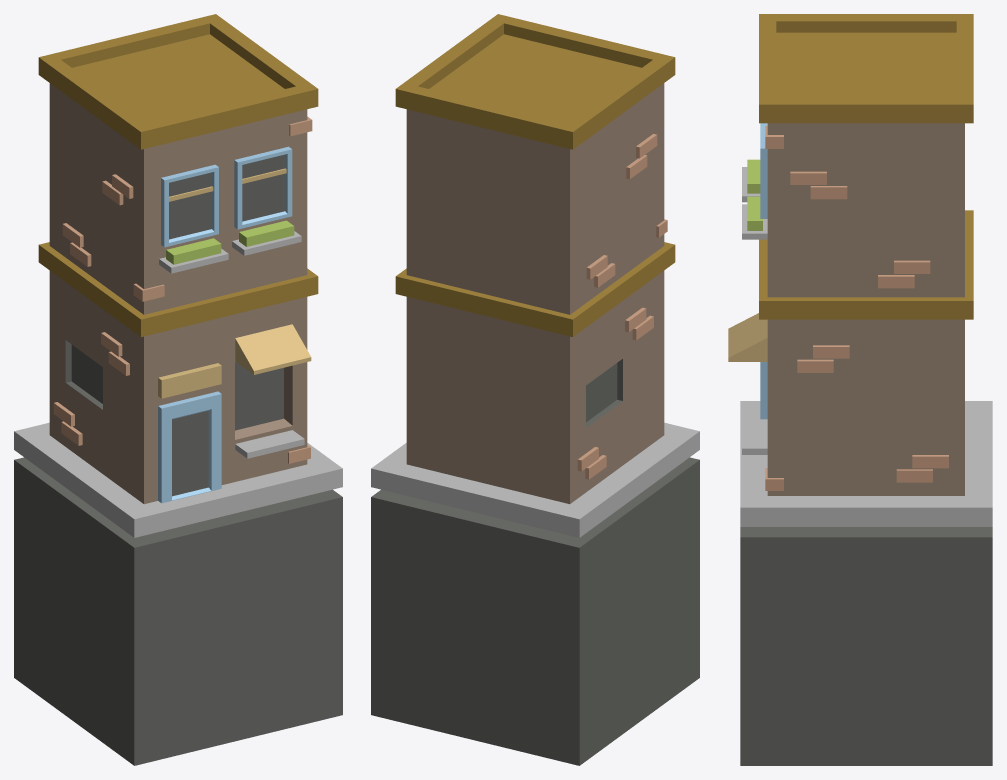
Rendered from house_Block_color2F_b.fbx.
3 views of the same model, side by side, from view 1: azimuth 30°, elevation 25°; view 2: azimuth 150°, elevation 25°; view 3: azimuth 270°, elevation 25° (orthographic). The views are drawn at different scales.
Visible parts, largest first — view 1: floor_base, polySurface6, polySurface34, house3, house, house2, polySurface4, polySurface44, polySurface35, polySurface8, polySurface5, polySurface9 (+4 smaller); view 2: floor_base, polySurface6, polySurface34, house3, house, house2; view 3: floor_base, polySurface6, polySurface34, house3, house, house2, polySurface8, polySurface9, polySurface44, polySurface51, polySurface50, polySurface53 (+8 smaller).
Part boxes in pixels (x1,y1,x2,y2): floor_base: (14, 457, 342, 765); polySurface6: (49, 271, 307, 504); polySurface34: (49, 83, 307, 314); house3: (38, 14, 318, 149); house: (14, 422, 342, 537); house2: (38, 242, 318, 336); polySurface4: (158, 391, 221, 503); polySurface44: (234, 146, 292, 229); polySurface35: (161, 164, 218, 247); polySurface8: (235, 324, 311, 374); polySurface5: (158, 363, 221, 398); polySurface9: (235, 430, 304, 458); floor_base: (371, 457, 699, 765); polySurface6: (406, 271, 664, 504); polySurface34: (406, 83, 664, 314); house3: (395, 14, 675, 149); house: (371, 422, 699, 537); house2: (395, 242, 675, 336); floor_base: (740, 527, 992, 765); polySurface6: (767, 319, 964, 495); polySurface34: (767, 123, 964, 297); house3: (759, 14, 973, 123); house: (740, 401, 992, 526); house2: (759, 210, 973, 319); polySurface8: (728, 313, 767, 361); polySurface9: (742, 419, 767, 454); polySurface44: (760, 123, 767, 218); polySurface51: (810, 186, 847, 199); polySurface50: (790, 171, 826, 184); polySurface53: (878, 275, 914, 288).
Size of the model in its own units: 5 by 14.29 by 5.23.
